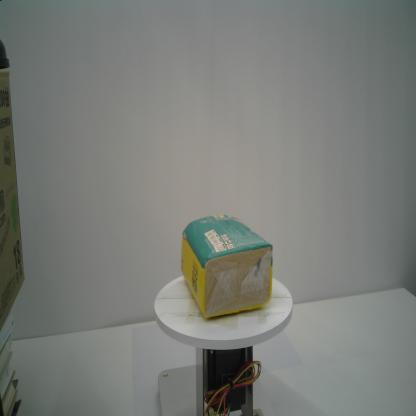Tissue: (178, 211, 274, 320)
